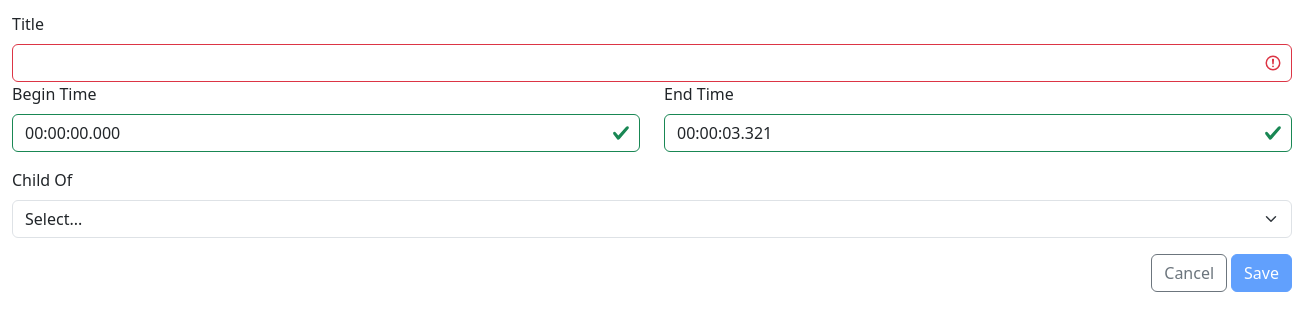
Test case: Timespan component › flat (non-nested) timespans › and validates › begin and end times › when form opens
The image size is (1304, 313).
Type "New timespan" into the field labelled "Title".
click(652, 63); type("New timespan")  # box [12,44,1292,82]
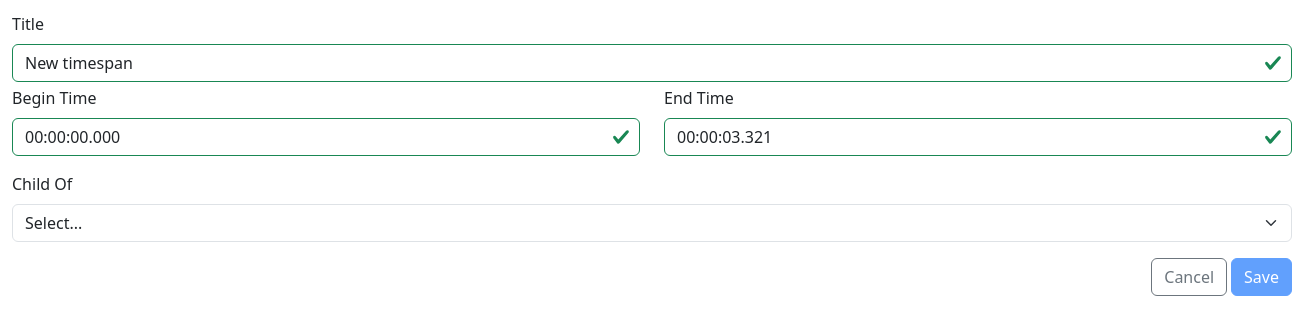
Select "Sub-Segment 1.1" in the dropdown labelled "Child Of" at (652, 223), box [12,204,1292,242]
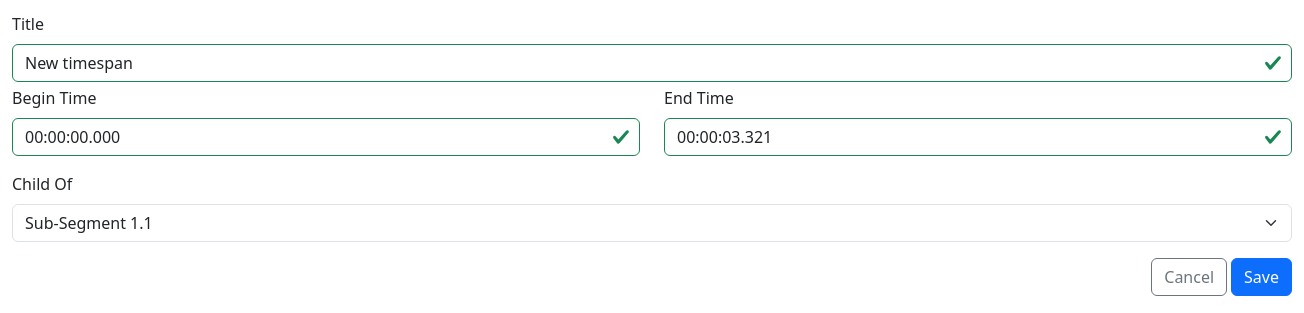
Expected: the field labelled "Begin Time" holds "00:00:00.000", [12,118,640,156]
Now the button with test id "timespan-form-save-button" is enabled, box [1231,258,1292,296]
